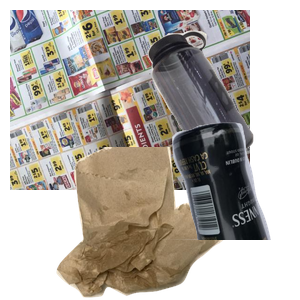glass: (106, 120, 300, 300)
paper: (10, 10, 250, 190)
plastic: (145, 28, 300, 192)
trash: (54, 147, 271, 300)
